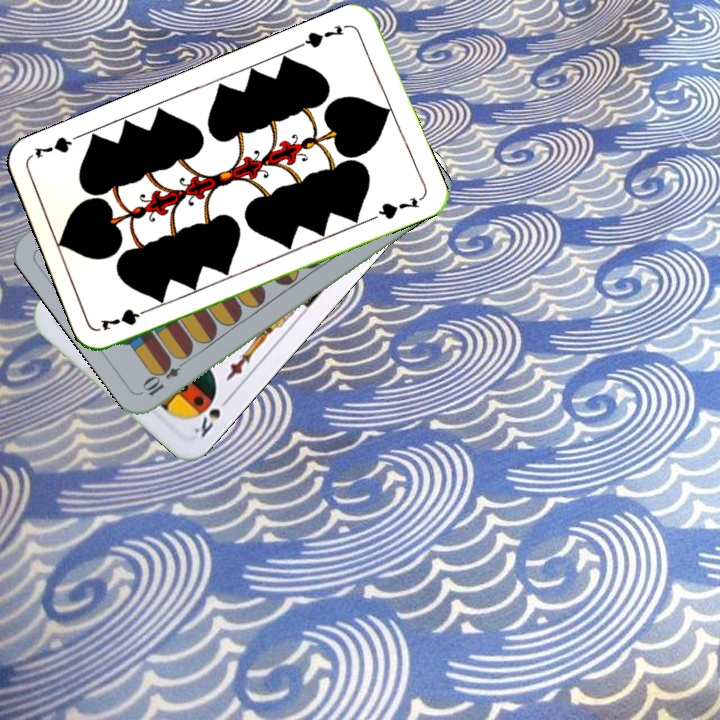E10: (139, 353, 191, 399)
G7: (96, 303, 155, 334), (296, 20, 352, 51)
SK: (189, 391, 234, 441)
